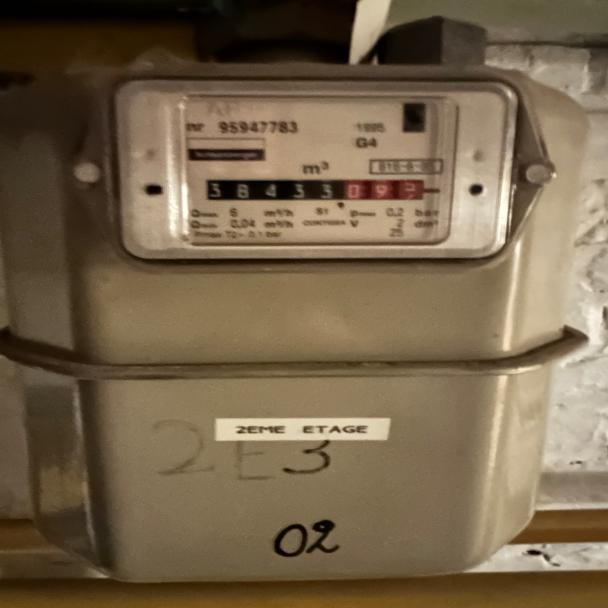0: (346, 181, 365, 200)
3: (314, 182, 337, 200), (206, 181, 228, 199), (287, 181, 309, 199)
4: (260, 180, 284, 200)
5: (395, 180, 424, 200)
8: (232, 181, 254, 199)
9: (370, 180, 392, 202)
cm: (345, 178, 426, 201), (394, 185, 421, 200)
counter: (205, 180, 342, 200)
